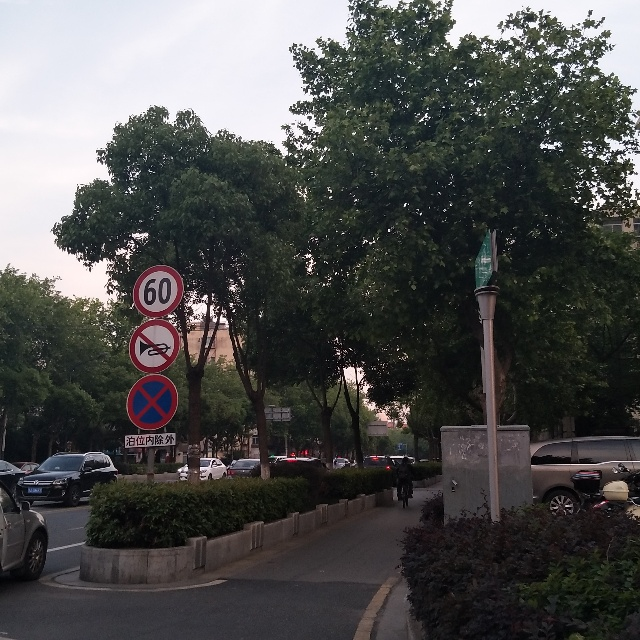nohonk: (127, 321, 186, 373)
stop: (125, 372, 180, 429)
